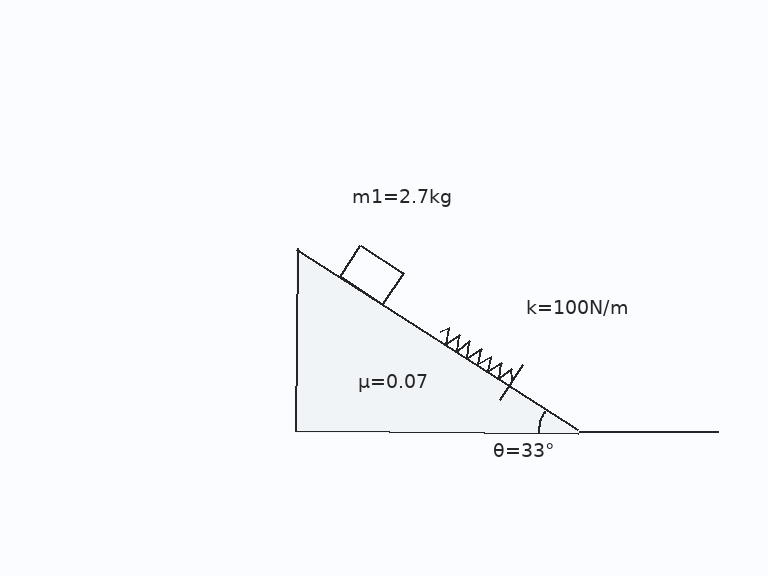block: (338, 243, 405, 306)
ramp: (294, 246, 581, 434)
spring: (438, 326, 515, 381)
